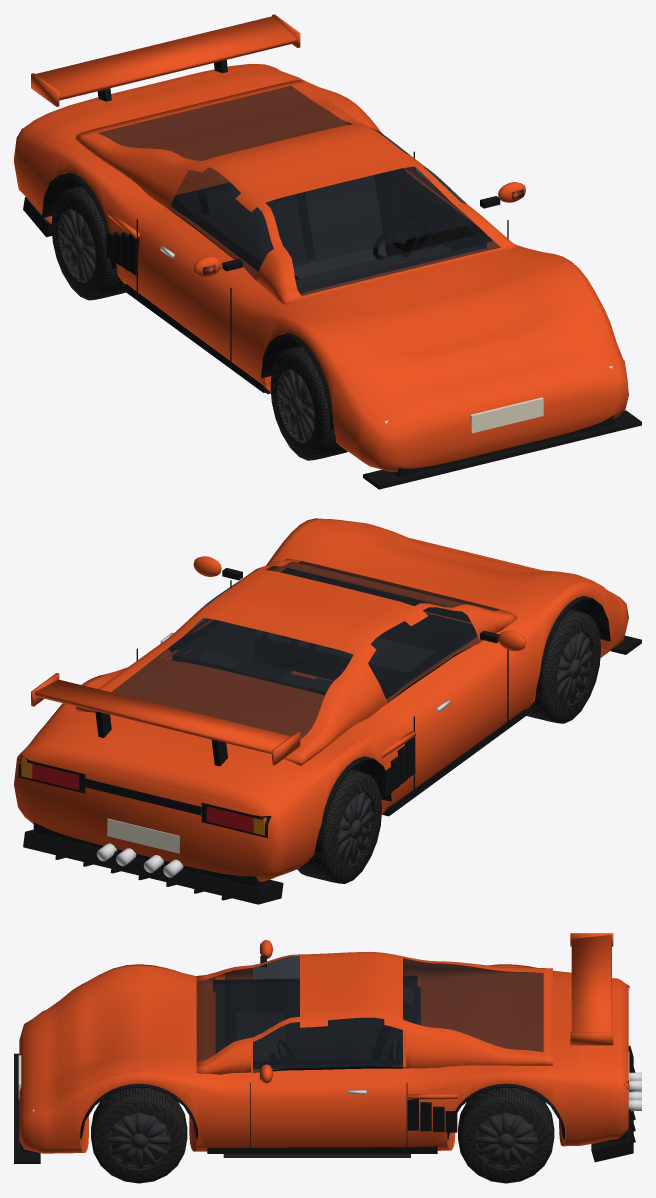
The model's file is car_super.glb.
3 renders of one model, top to bottom at view 1: azimuth 30°, elevation 25°; view 2: azimuth 150°, elevation 25°; view 3: azimuth 270°, elevation 25°, orthographic. The views are drawn at different scales.
Visible parts, largest first — view 1: Body, wheel_RR, wheel_FR, Door_L; view 2: Body, wheel_RR, wheel_FR, Door_L; view 3: Body, Door_L, wheel_FL, wheel_RL.
Boxes of the visible parts, left/top/right/bottom form: Body: left=14, top=14, right=641, bottom=489; wheel_RR: left=51, top=186, right=126, bottom=300; wheel_FR: left=270, top=346, right=347, bottom=460; Door_L: left=368, top=126, right=525, bottom=225; Body: left=14, top=518, right=641, bottom=904; wheel_RR: left=297, top=769, right=381, bottom=883; wheel_FR: left=526, top=609, right=600, bottom=723; Door_L: left=160, top=556, right=266, bottom=653; Body: left=14, top=933, right=641, bottom=1163; Door_L: left=251, top=1017, right=406, bottom=1146; wheel_FL: left=91, top=1088, right=187, bottom=1183; wheel_RL: left=458, top=1088, right=554, bottom=1183.
Size of the model in its own units: 2.4 by 1.21 by 4.69.
12 materials, 1 textured.
